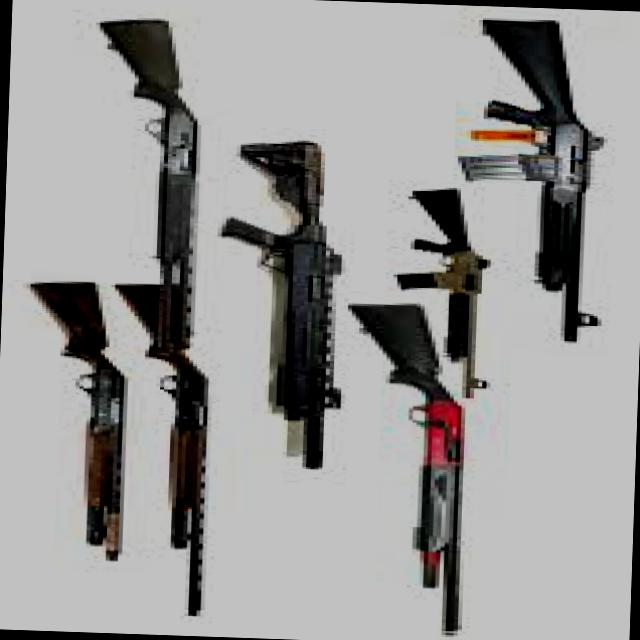long weapon: (461, 18, 622, 353), (341, 298, 484, 640), (83, 10, 227, 341), (108, 275, 221, 623), (232, 139, 343, 481), (14, 271, 134, 577), (384, 182, 516, 419)
